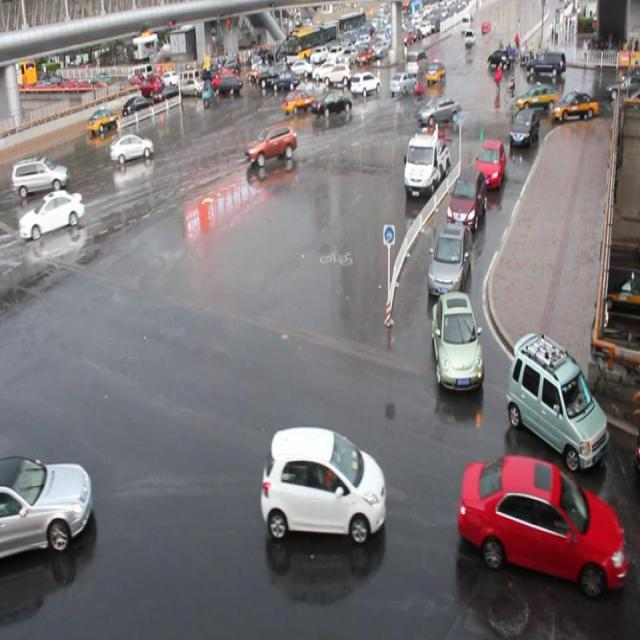bus: (402, 128, 448, 198)
car: (457, 453, 624, 591), (503, 327, 609, 472), (260, 424, 386, 542), (1, 450, 93, 557), (429, 288, 483, 390), (427, 220, 472, 296), (19, 190, 84, 237), (447, 166, 486, 229), (245, 123, 296, 164), (473, 138, 505, 189), (508, 106, 540, 150), (416, 93, 460, 125), (109, 133, 154, 162), (514, 82, 559, 110), (312, 90, 352, 116), (281, 87, 316, 111), (349, 72, 381, 95)
truck: (13, 155, 70, 193)
